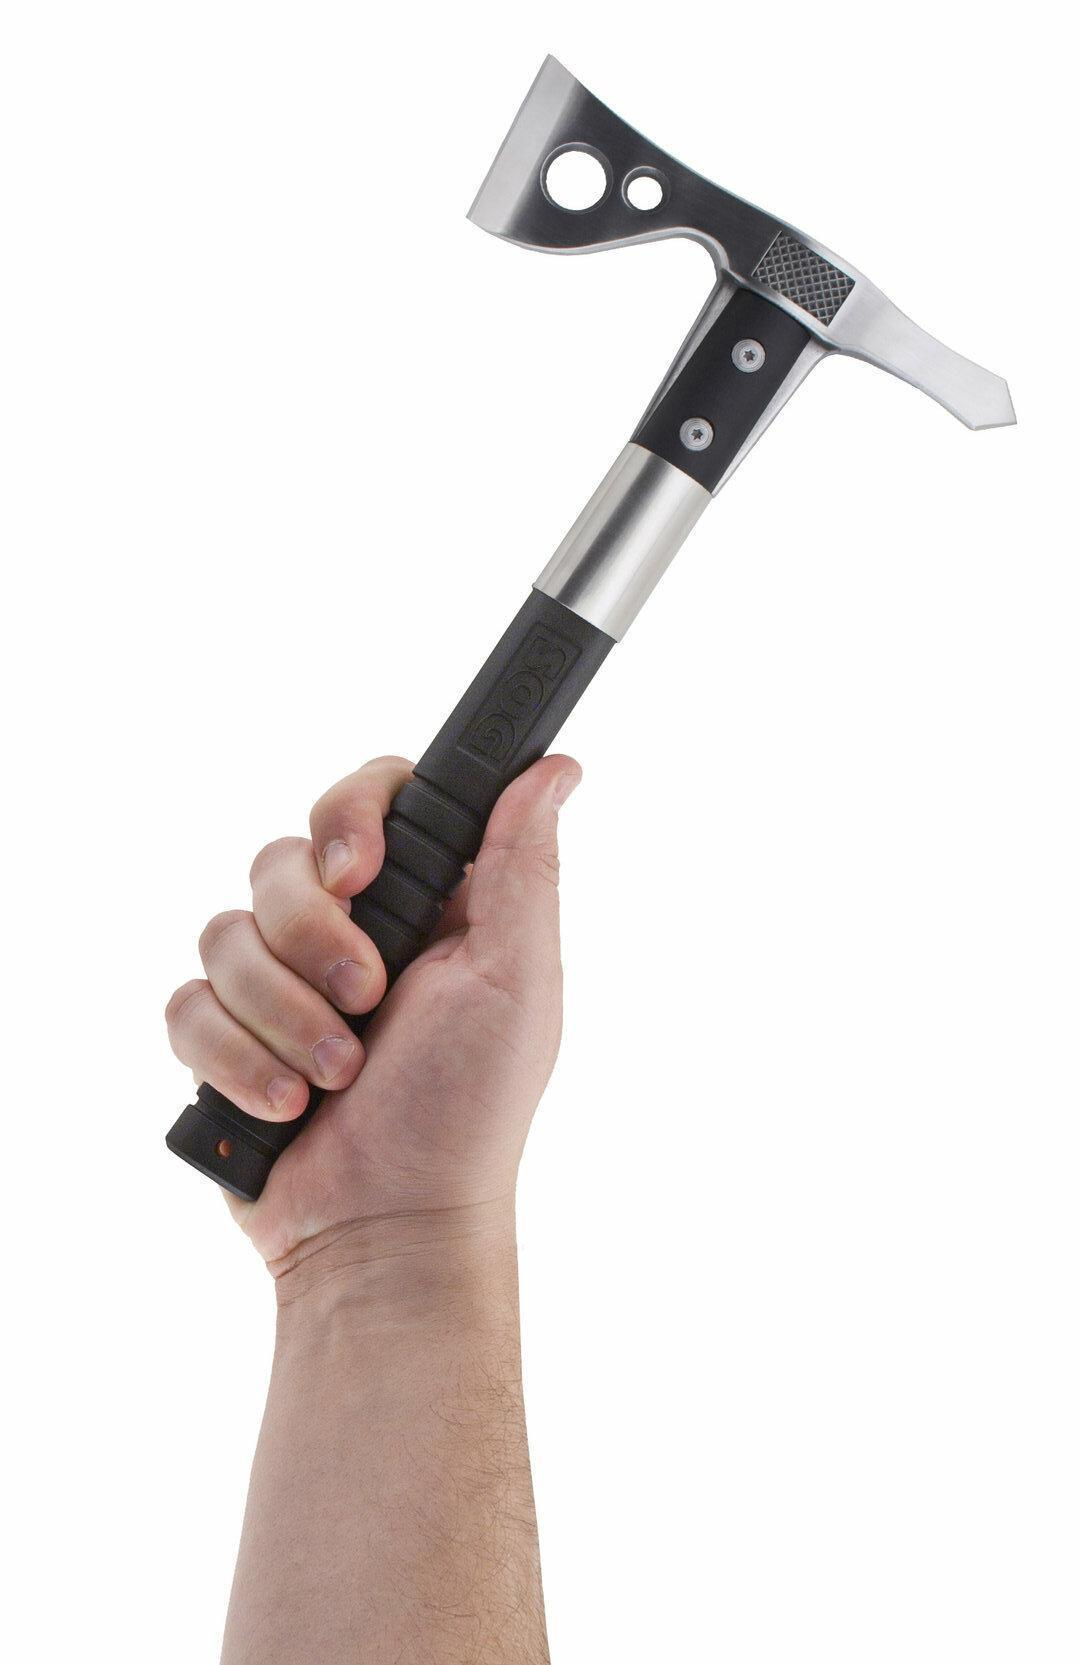machado: (353, 58, 1014, 985)
